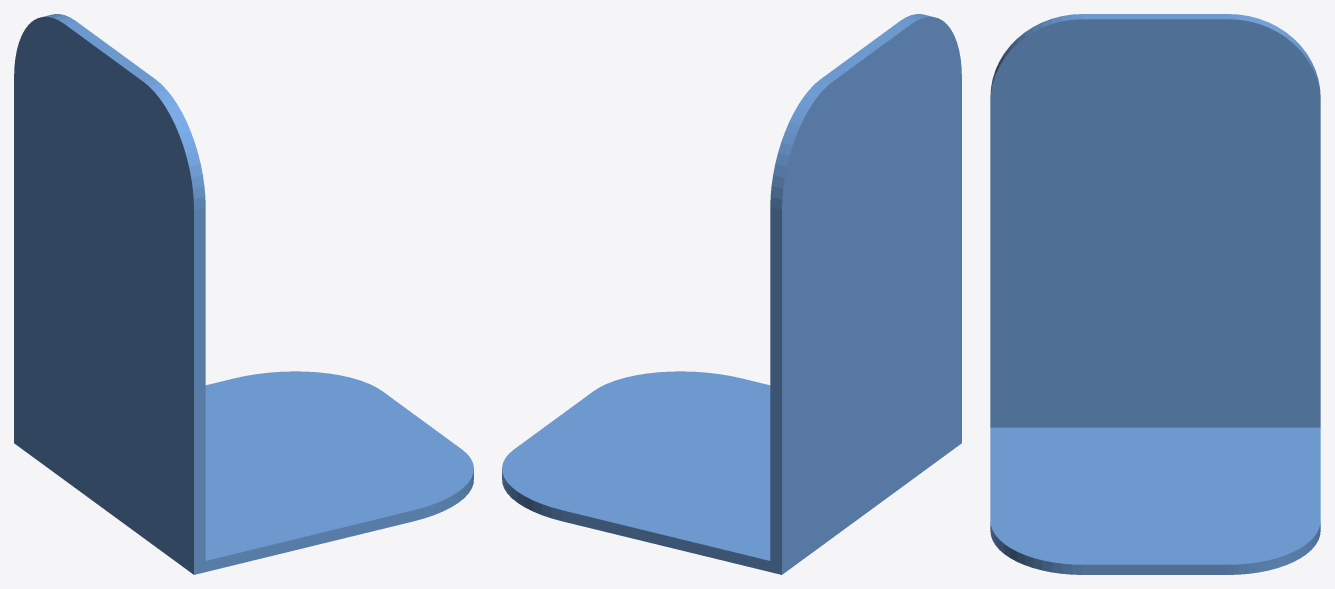
The model's file is 0403bookend.fbx.
The picture shows the model from 3 angles, left to right: view 1: azimuth 30°, elevation 25°; view 2: azimuth 150°, elevation 25°; view 3: azimuth 270°, elevation 25°; orthographic projection. The views are drawn at different scales.
Parts seen in each view (by area): view 1: Cube.006; view 2: Cube.006; view 3: Cube.006.
Boxes of the visible parts, <box> form: Cube.006: <box>14,14,473,574</box>; Cube.006: <box>502,14,961,574</box>; Cube.006: <box>990,14,1320,574</box>.
Size of the model in its own units: 8.64 by 11.83 by 8.46.
